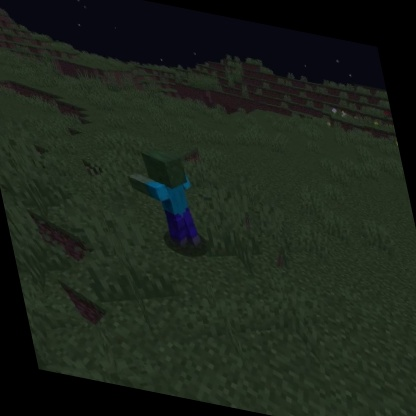zombie: (118, 139, 208, 256)
